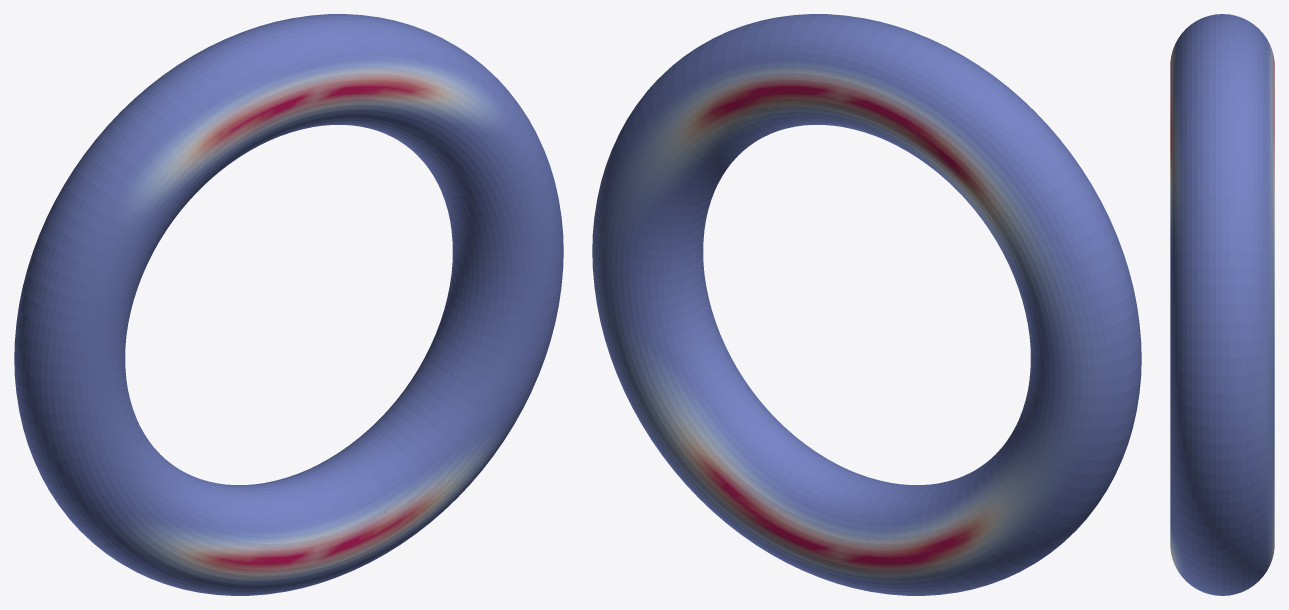
3 renders of one model, left to right at view 1: azimuth 30°, elevation 25°; view 2: azimuth 150°, elevation 25°; view 3: azimuth 270°, elevation 25°, orthographic. The views are drawn at different scales.
Parts seen in each view (by area): view 1: world; view 2: world; view 3: world.
Part boxes in pixels (box(x1,y1,x2,y2)): world: box(14, 14, 563, 595); world: box(592, 14, 1141, 595); world: box(1170, 14, 1274, 595).
Bounding box in the file's own units: 17.07 × 17.07 × 3.06.
